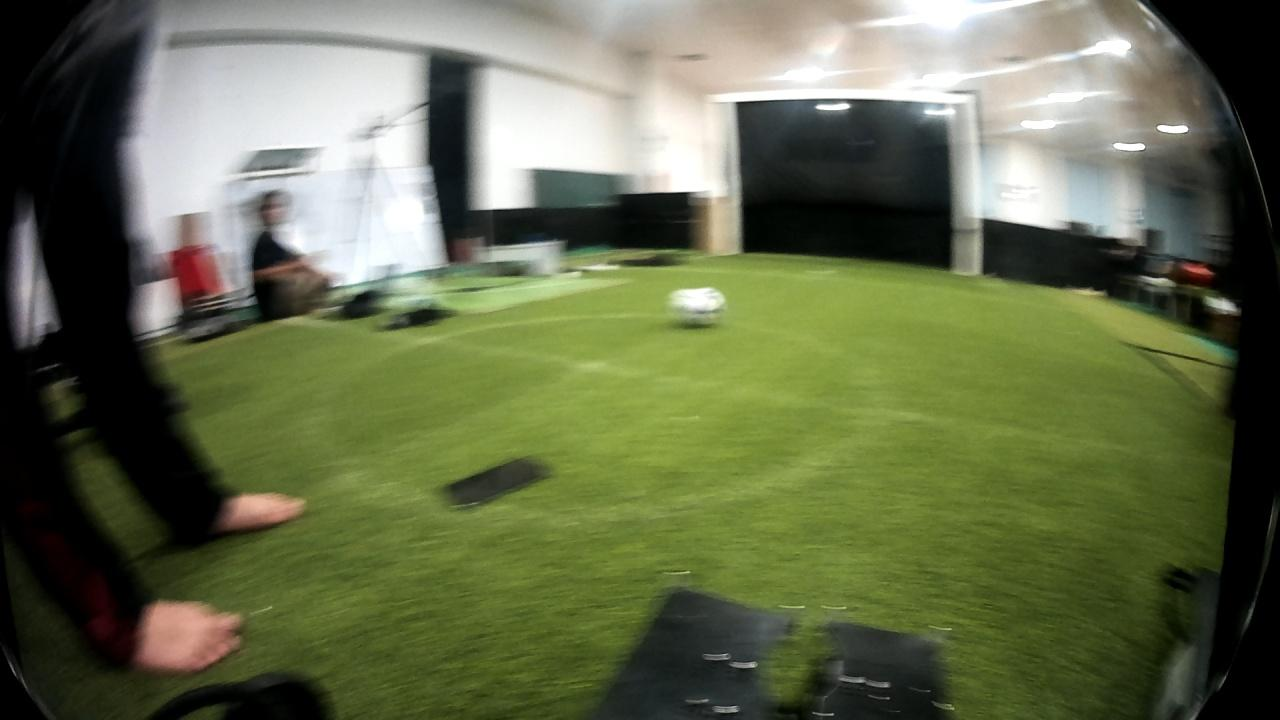ball: (669, 276, 728, 332)
